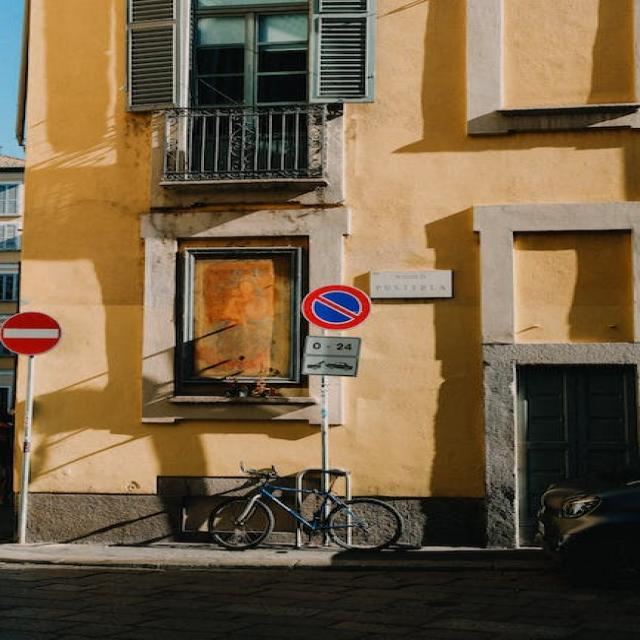no entry: (0, 311, 62, 356)
